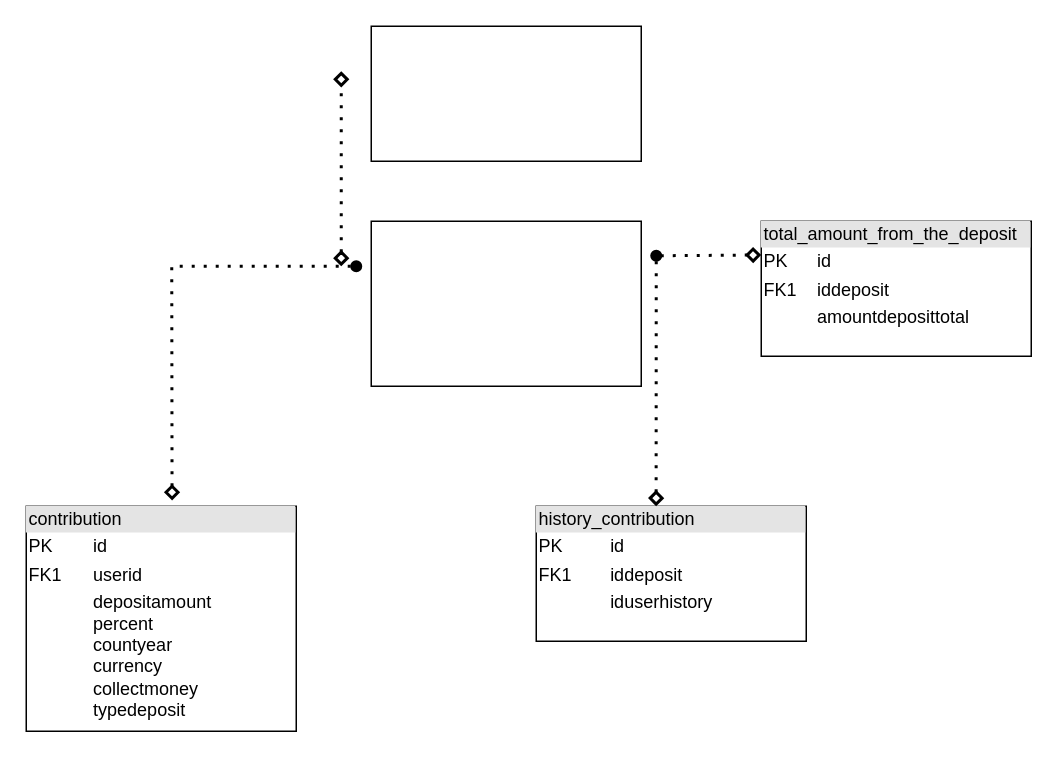
Some shapes in this 1058 by 758 pixel diagram are drawn without their labels. Each missing label, with the centre of its shape:
users_bank PK id FK1 email name lastname password roll: point 505,303
worker_table PK id FK1 iduserworker position: point 505,93
